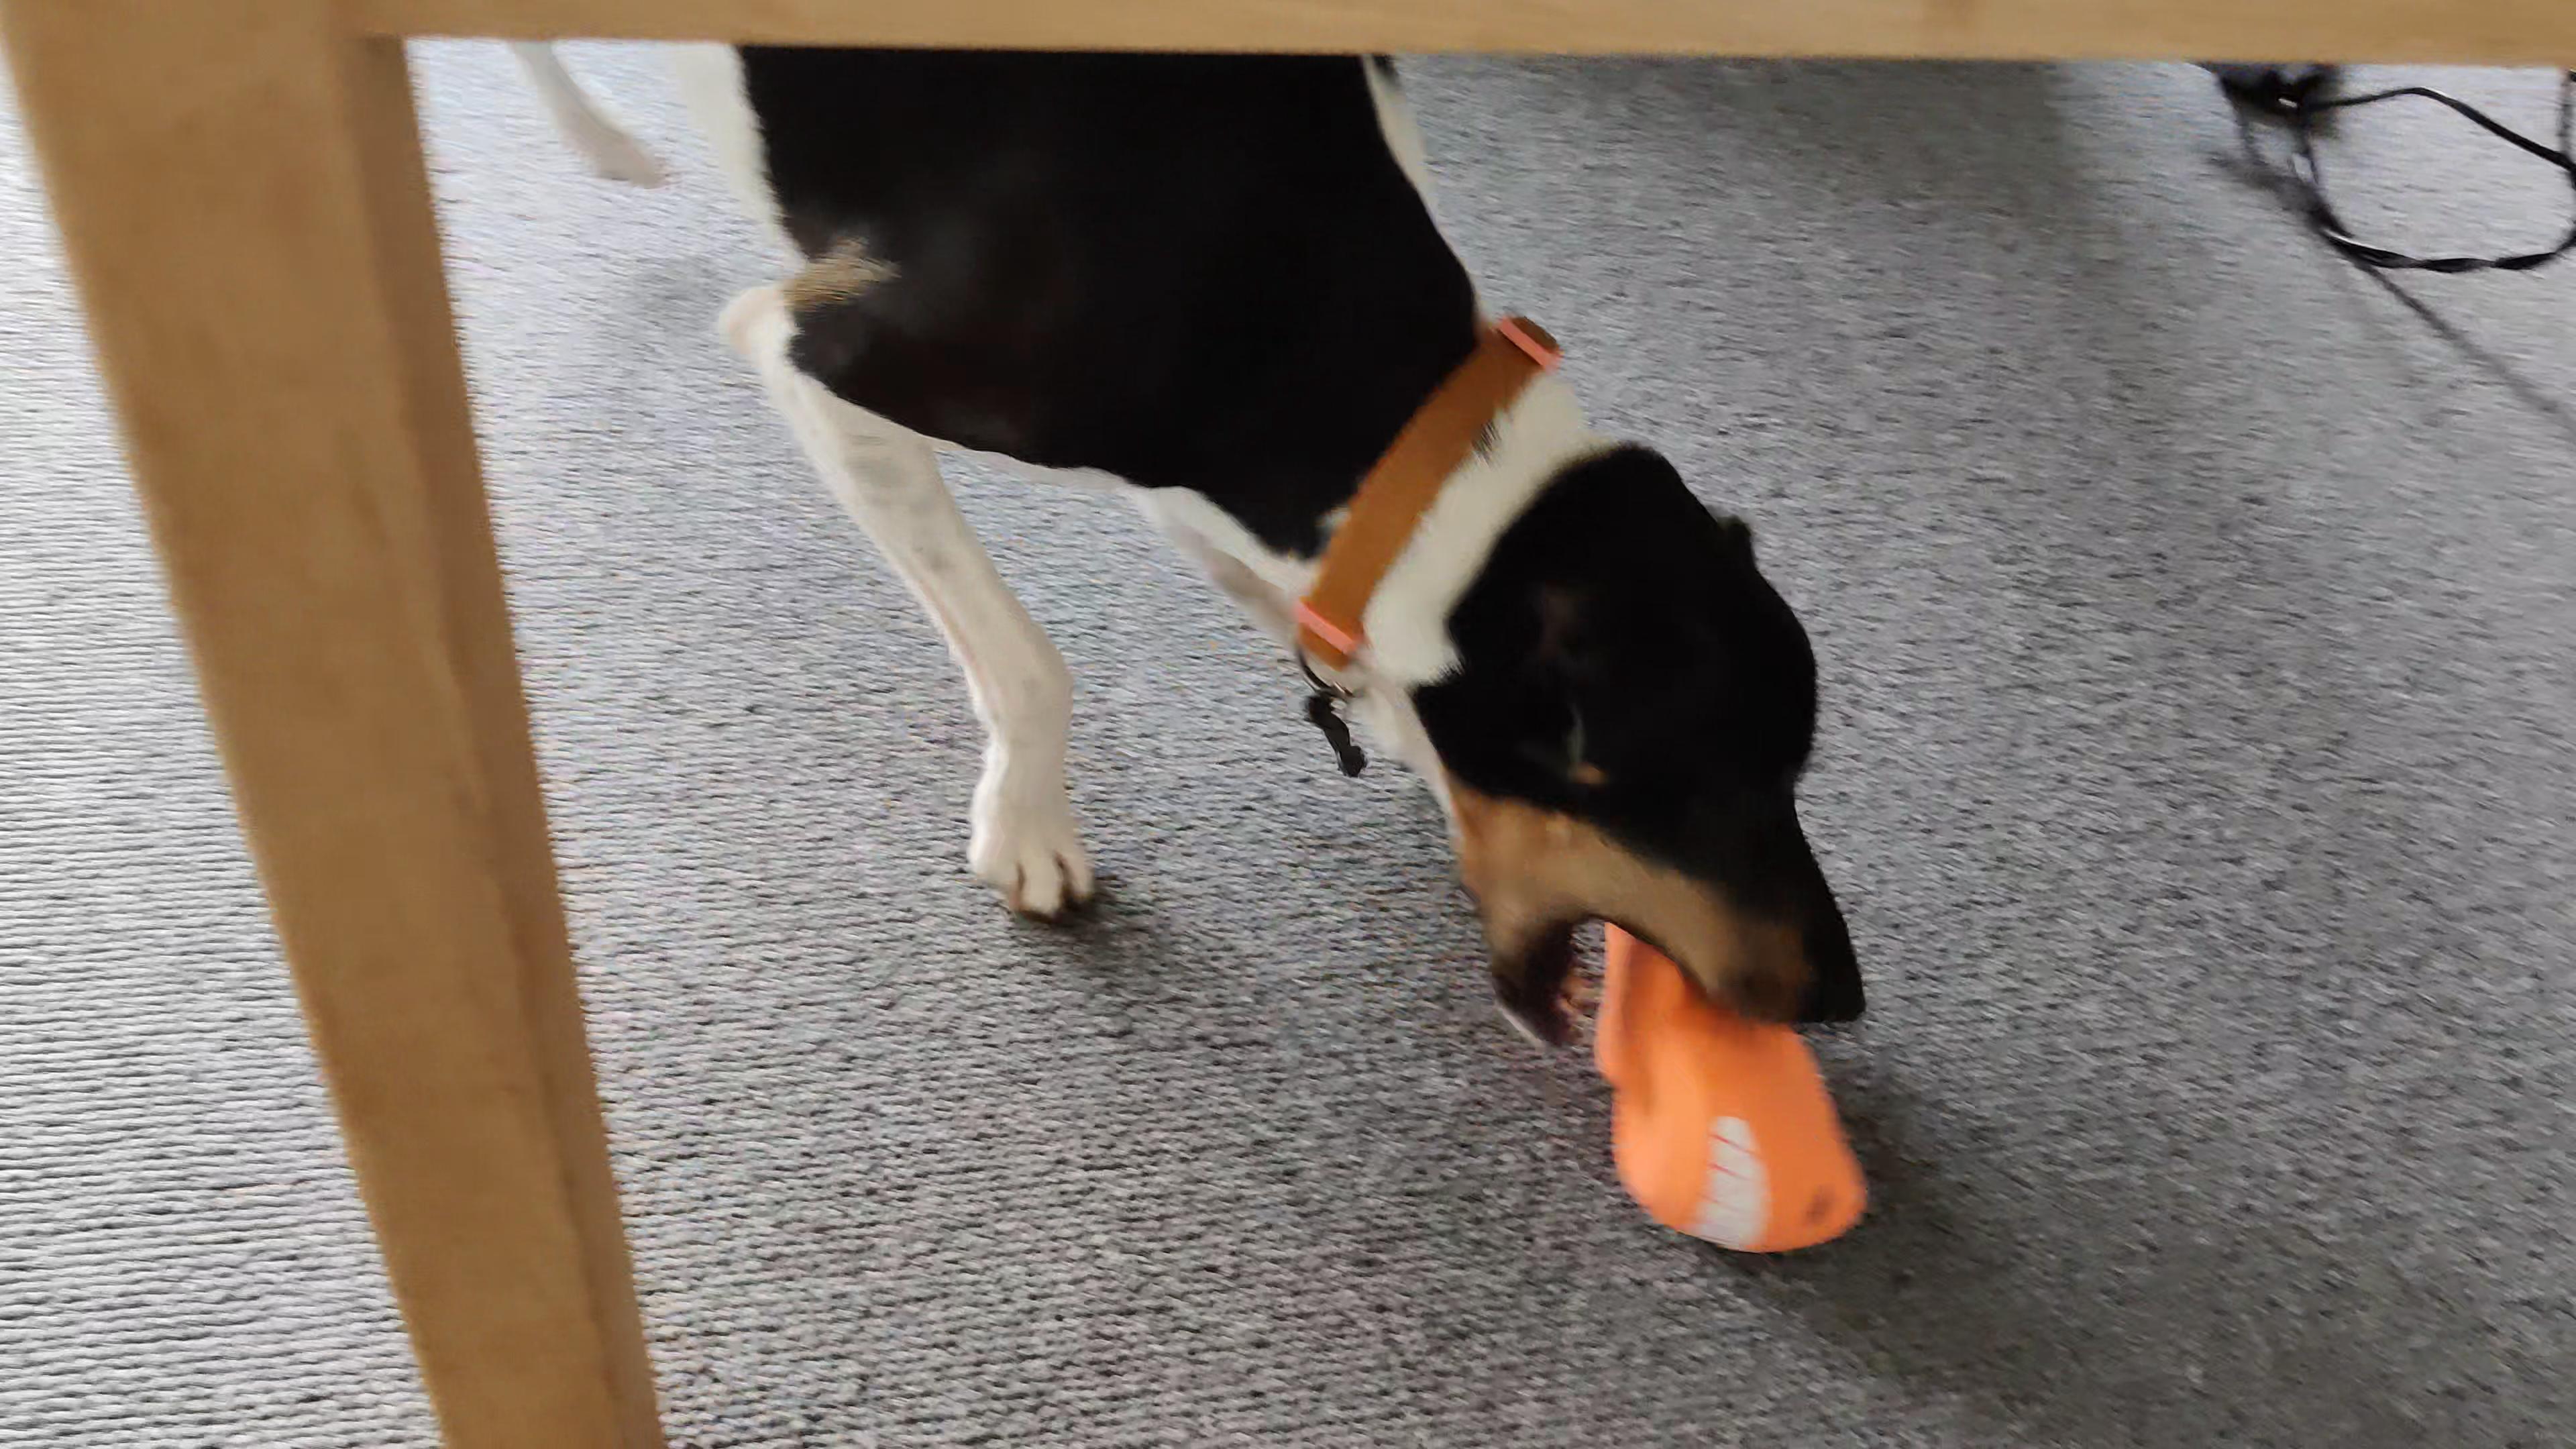Dog: (494, 12, 1884, 1056)
